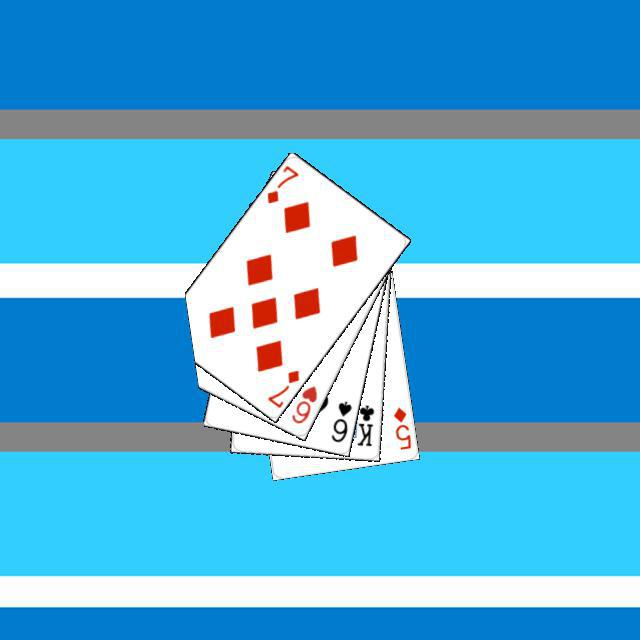5d: (389, 402, 413, 451)
6h: (286, 381, 319, 425)
6s: (326, 396, 353, 444)
7d: (262, 365, 301, 409), (262, 161, 301, 205)
Kc: (348, 395, 376, 448)
